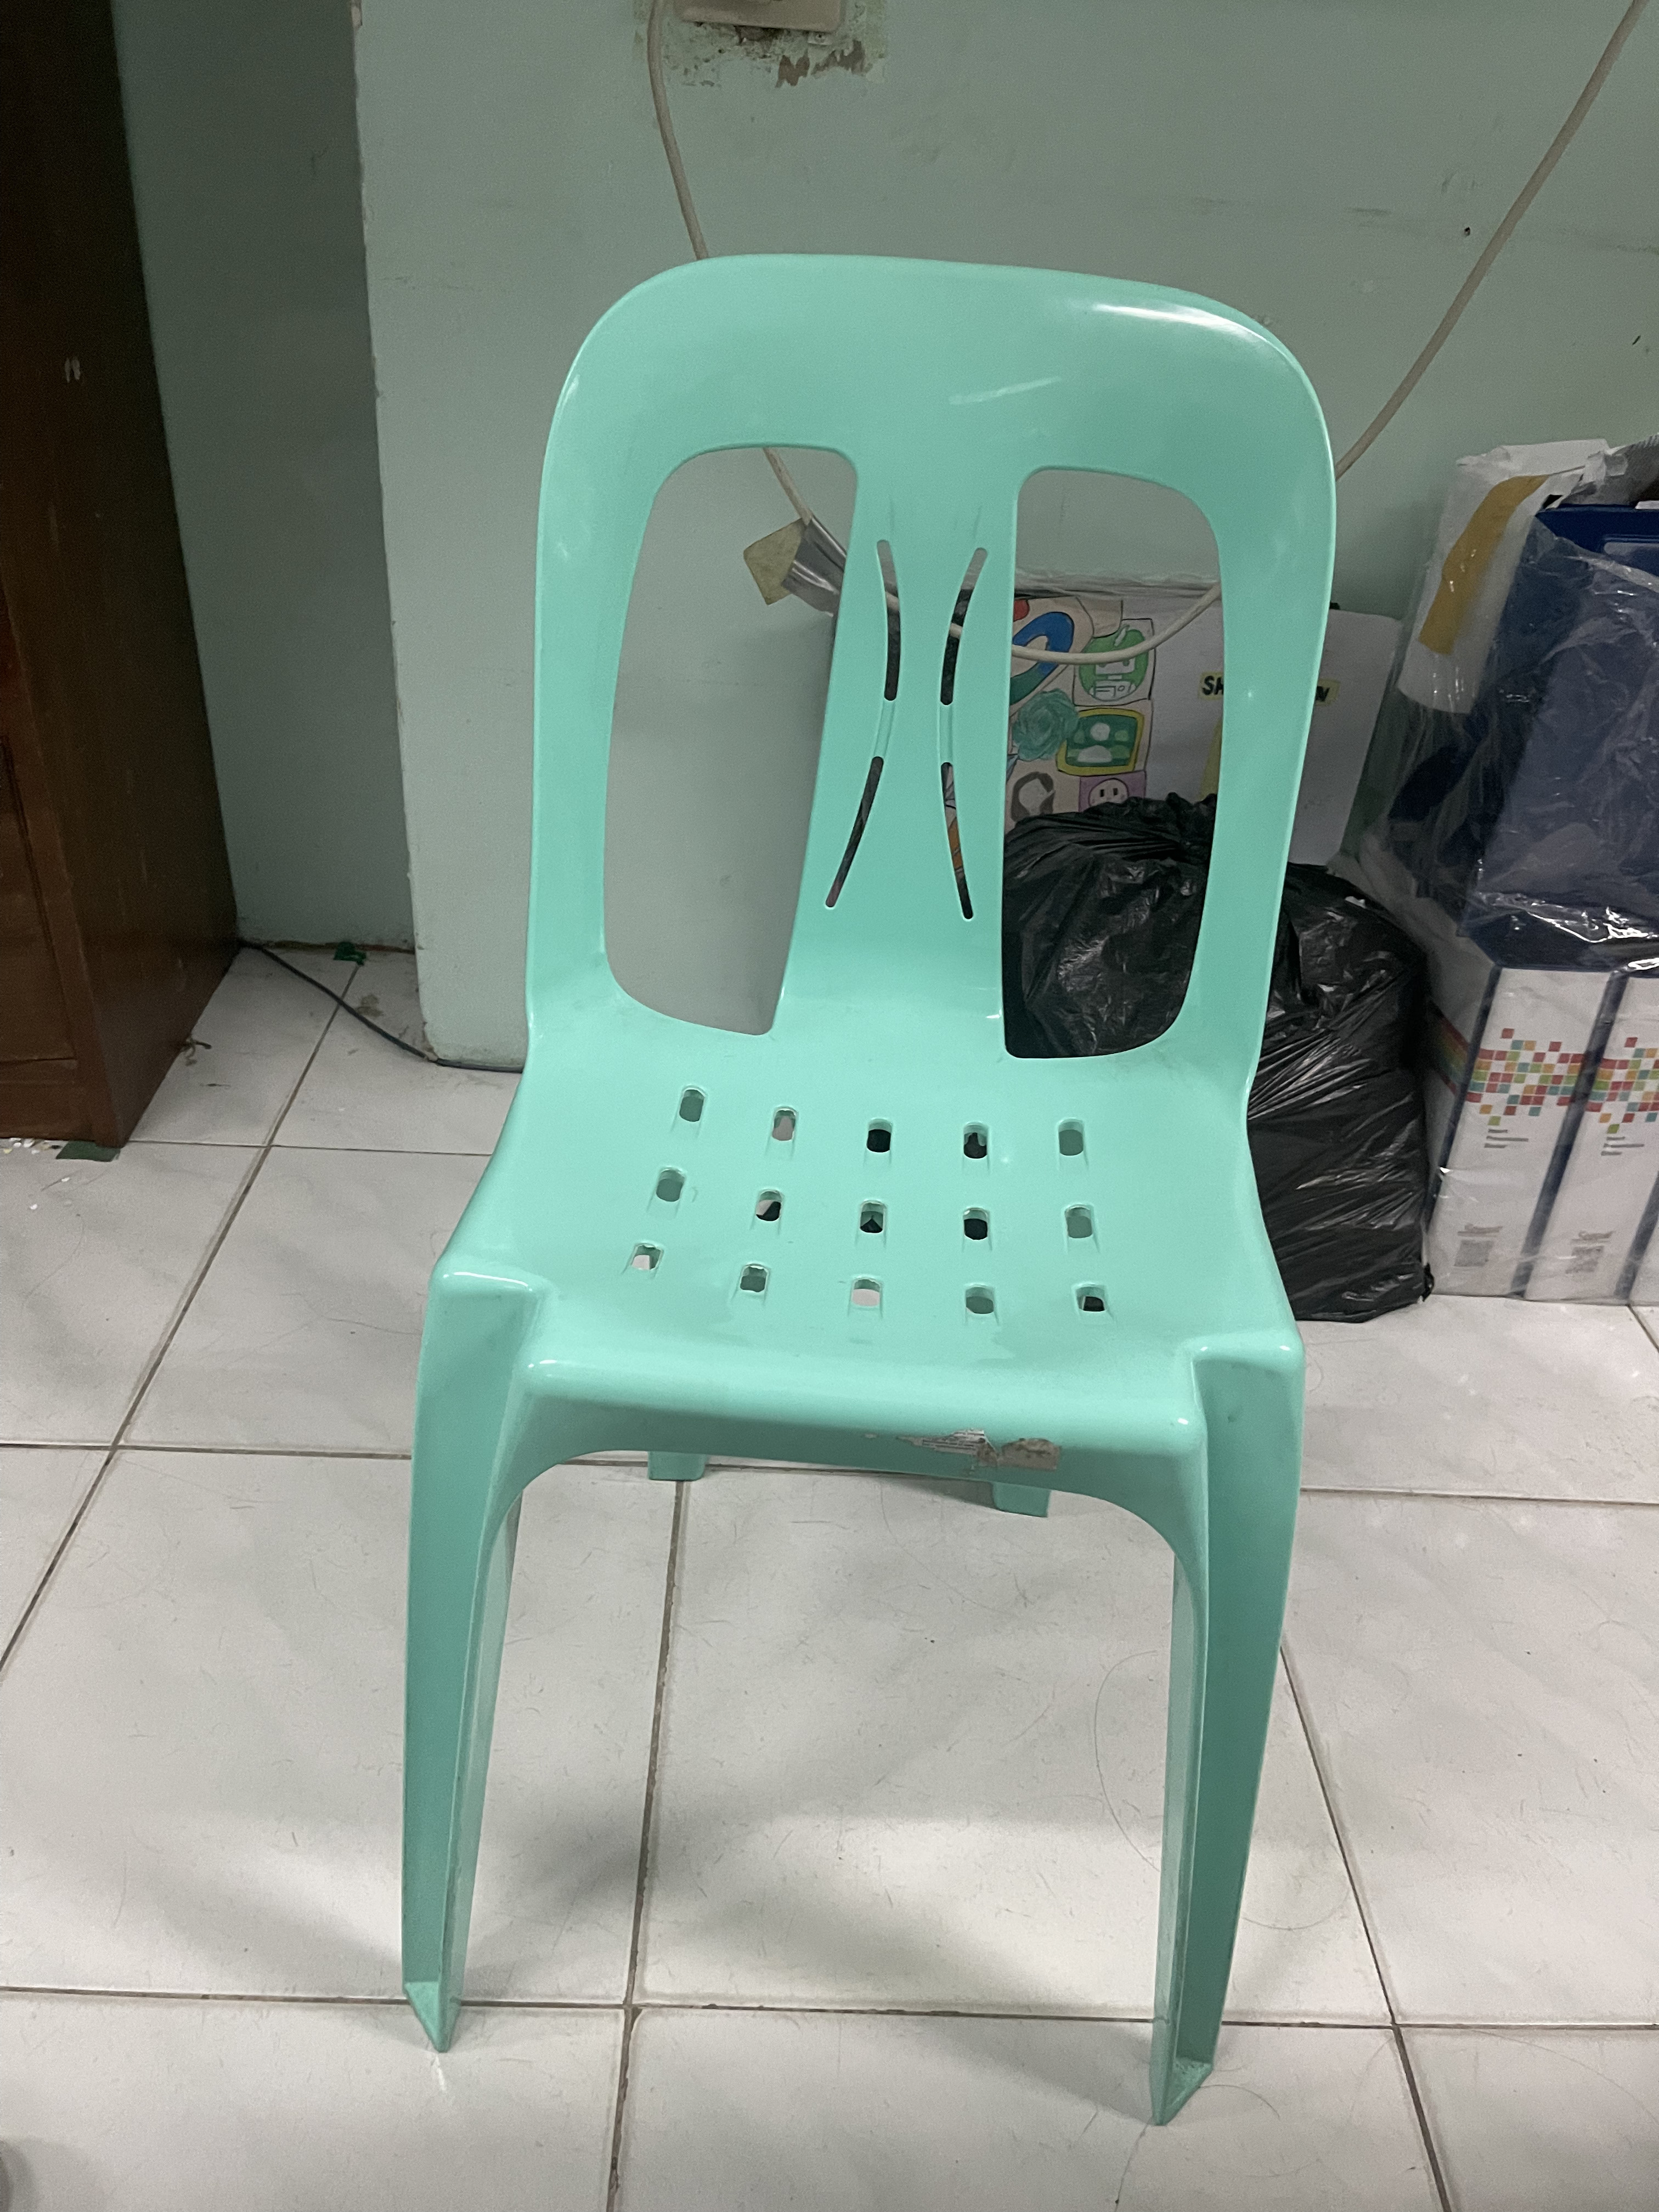chair2: (376, 244, 1349, 2182)
